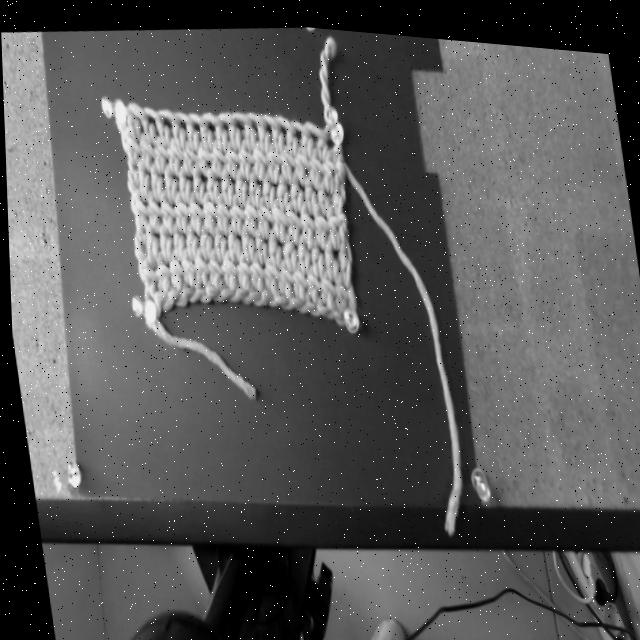ch: (160, 285, 179, 308), (170, 285, 194, 302), (251, 284, 273, 301), (209, 283, 233, 297), (278, 291, 302, 304), (224, 283, 246, 297), (197, 285, 220, 298), (184, 285, 206, 298), (238, 287, 260, 299), (305, 298, 328, 309), (318, 303, 340, 313), (264, 291, 288, 300), (292, 296, 312, 306)
hdc: (155, 105, 185, 146), (127, 100, 154, 142), (141, 105, 170, 144), (303, 114, 327, 157), (186, 109, 212, 148), (274, 110, 298, 151), (202, 109, 226, 148), (216, 109, 240, 148), (246, 108, 269, 147), (176, 109, 198, 149), (233, 109, 255, 148), (261, 109, 283, 148), (289, 116, 312, 153), (297, 194, 314, 244), (284, 194, 302, 241), (312, 194, 328, 244), (158, 186, 175, 232), (324, 199, 341, 245), (237, 133, 254, 179), (255, 189, 271, 237), (277, 140, 295, 181), (200, 187, 216, 233), (173, 187, 190, 230), (322, 230, 338, 275), (271, 192, 286, 240), (264, 137, 281, 179), (143, 220, 158, 267), (331, 264, 347, 308), (219, 246, 236, 287), (292, 140, 309, 181), (261, 250, 277, 293), (187, 188, 203, 231), (165, 134, 182, 174), (280, 222, 295, 267), (309, 141, 324, 185), (304, 258, 320, 299), (205, 243, 221, 284), (214, 188, 229, 231), (234, 245, 250, 285), (192, 244, 208, 284), (224, 137, 240, 177), (123, 123, 139, 163), (228, 190, 243, 232), (145, 187, 160, 229), (321, 145, 335, 190), (252, 135, 267, 177), (152, 132, 168, 171), (162, 159, 176, 203), (289, 255, 304, 296), (309, 230, 323, 273), (266, 222, 280, 265), (242, 190, 256, 233), (184, 215, 198, 258), (276, 254, 291, 294), (247, 246, 262, 286), (332, 176, 347, 216), (208, 135, 223, 175), (180, 138, 197, 173), (154, 249, 169, 288), (138, 130, 153, 169), (168, 247, 182, 288), (319, 263, 333, 304), (239, 218, 253, 259), (176, 160, 190, 201), (149, 159, 163, 200), (171, 218, 184, 262), (158, 219, 171, 263), (289, 164, 302, 208), (336, 236, 348, 283), (180, 243, 194, 283), (225, 220, 239, 260), (219, 161, 233, 201), (295, 227, 308, 270), (191, 159, 204, 202), (136, 155, 149, 198), (315, 172, 328, 215), (198, 217, 212, 256), (205, 162, 219, 201), (260, 165, 274, 204), (196, 138, 212, 172), (132, 189, 147, 225), (302, 169, 315, 210), (234, 164, 247, 204), (212, 221, 226, 258), (253, 223, 266, 261), (275, 168, 287, 208), (124, 106, 139, 138), (248, 161, 259, 204)
